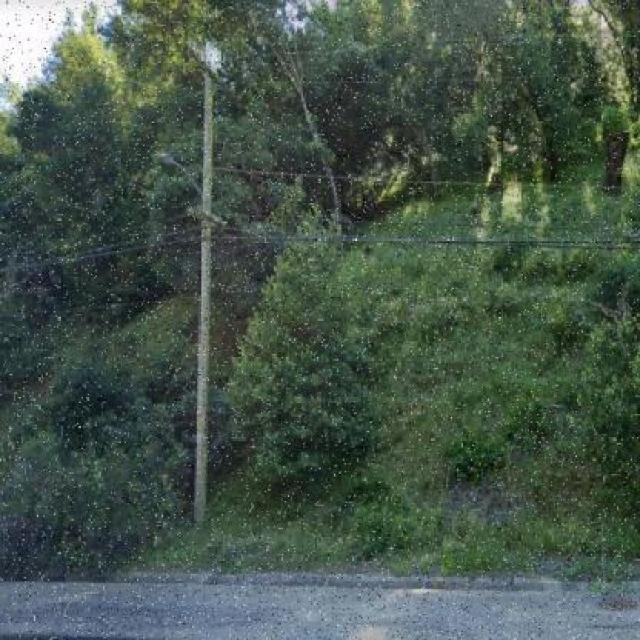pole: (172, 19, 237, 572)
